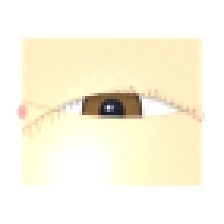pinguecula_lesion: (167, 94, 197, 118)
